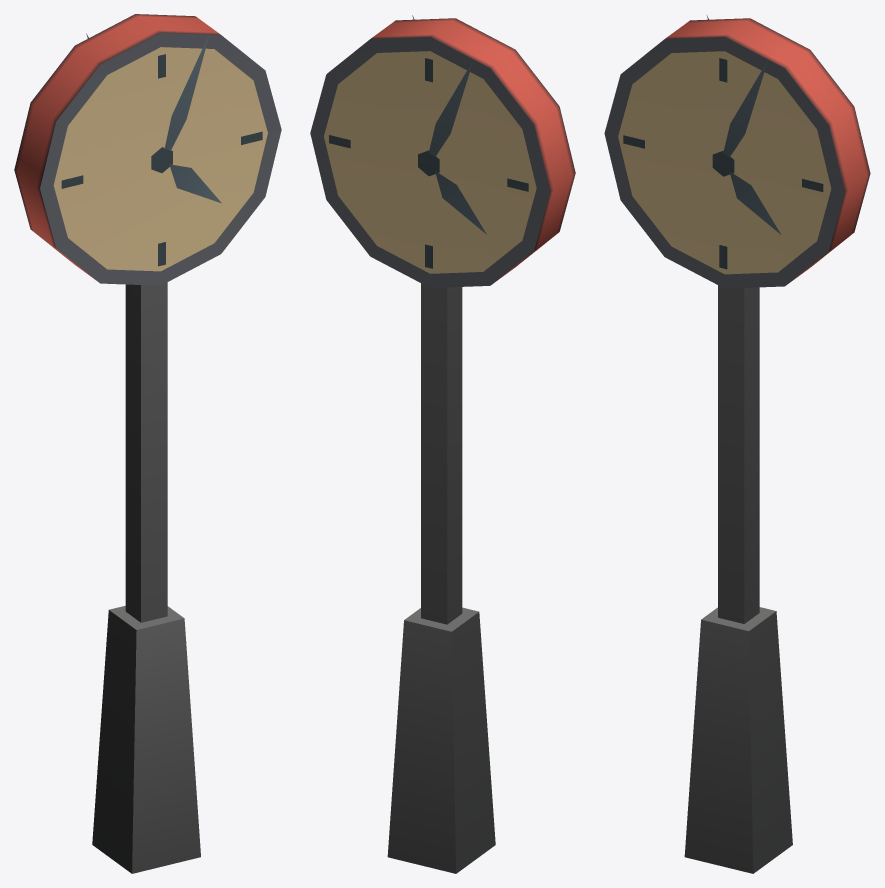
Rendered from Station_Clock.fbx.
3 views of the same model, side by side, from view 1: azimuth 30°, elevation 25°; view 2: azimuth 150°, elevation 25°; view 3: azimuth 330°, elevation 25° (orthographic).
Parts seen in each view (by area): view 1: Station_Clock; view 2: Station_Clock; view 3: Station_Clock.
Part boxes in pixels (box(x1,y1,x2,y2)): Station_Clock: box(14, 14, 281, 873); Station_Clock: box(310, 15, 575, 873); Station_Clock: box(604, 15, 870, 873).
Size of the model in its own units: 80.7 by 264 by 23.04.
